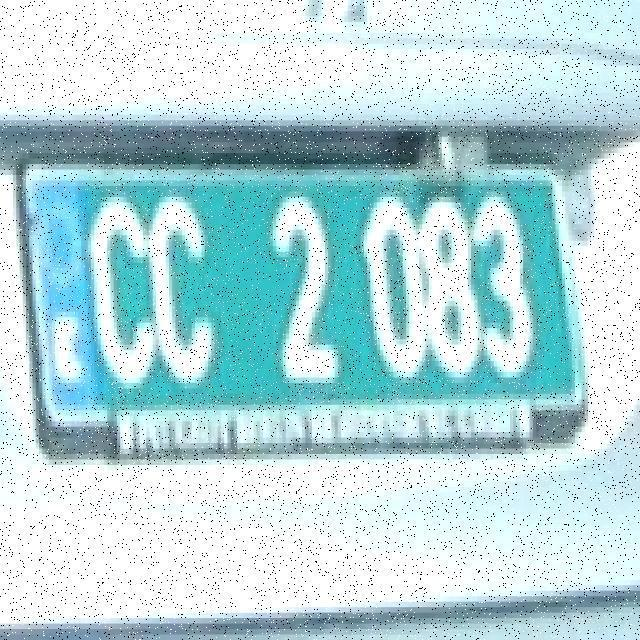LicensePlate: (11, 99, 606, 494)
